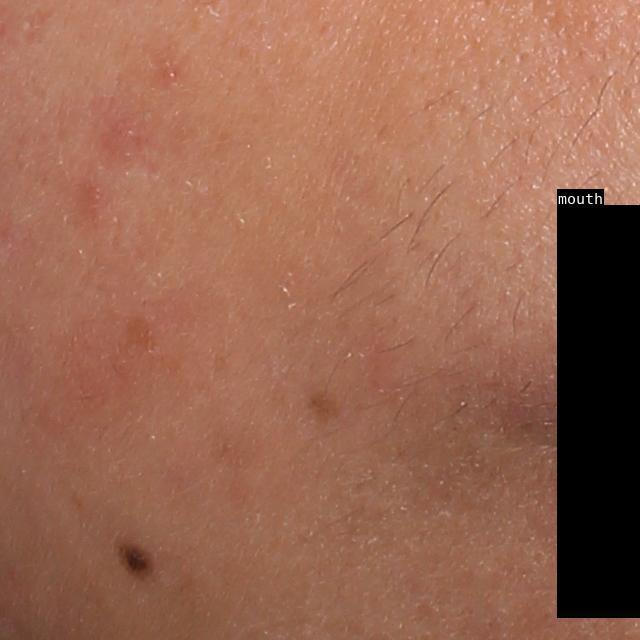atrophic_scar: (18, 5, 56, 44)
nevus: (117, 538, 159, 580)
